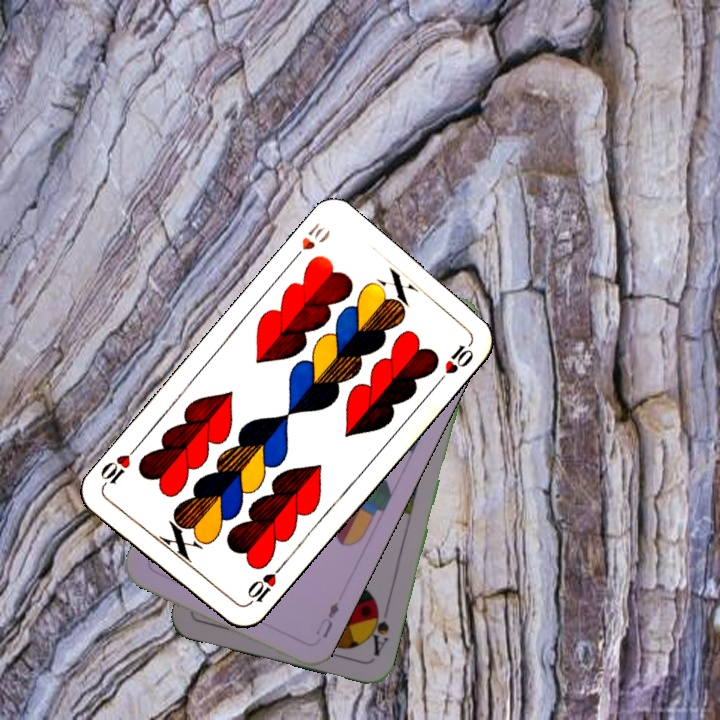EU: (311, 597, 342, 641)
H10: (286, 220, 333, 266), (242, 561, 286, 609)
SA: (364, 599, 392, 658)
